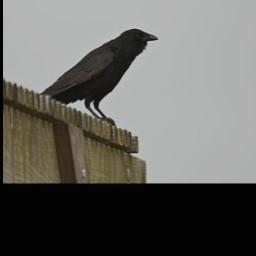Crow: (38, 26, 158, 127)
